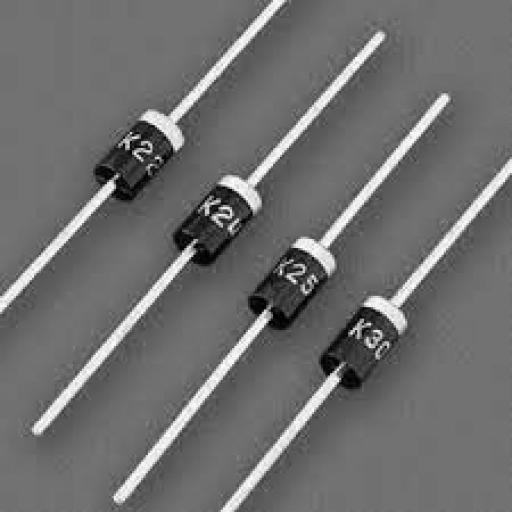DIODE: (0, 0, 510, 510), (242, 192, 341, 348), (92, 100, 211, 220), (163, 138, 272, 269), (334, 264, 411, 413)
